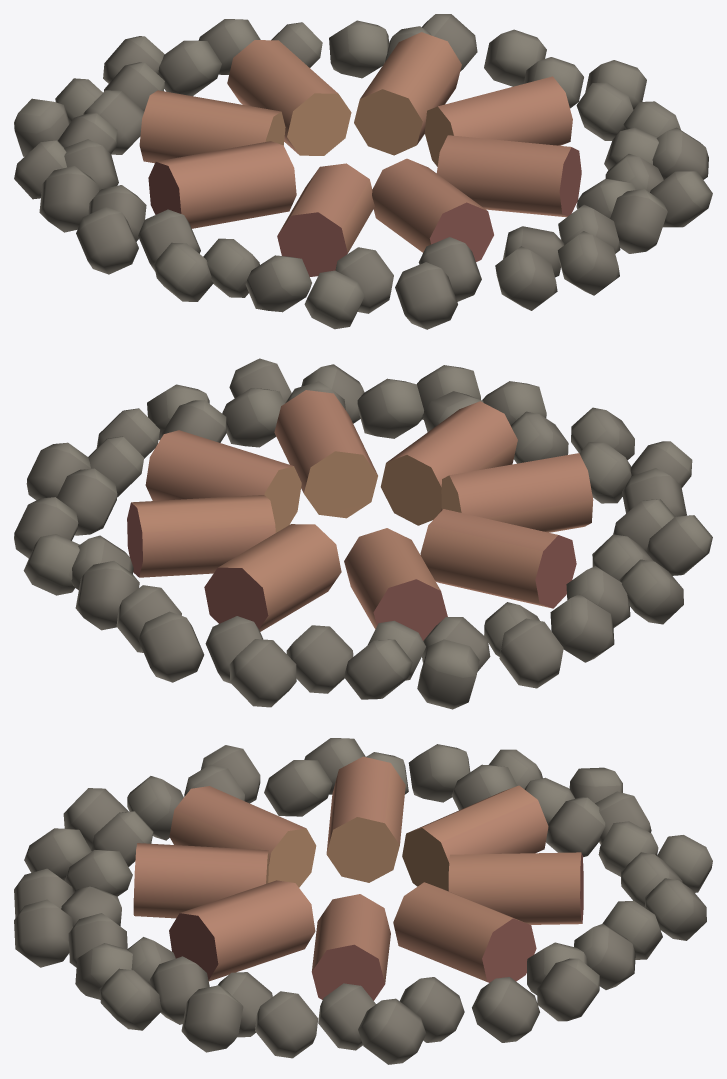
The model's file is fire_place.glb.
3 renders of one model, top to bottom at view 1: azimuth 30°, elevation 25°; view 2: azimuth 150°, elevation 25°; view 3: azimuth 270°, elevation 25°, orthographic. The views are drawn at different scales.
Visible parts, largest first — view 1: Fire_Place.001; view 2: Fire_Place.001; view 3: Fire_Place.001.
Part boxes in pixels (box(x1,y1,x2,y2)): Fire_Place.001: box(14, 14, 712, 329); Fire_Place.001: box(14, 358, 712, 709); Fire_Place.001: box(14, 738, 712, 1064).
Size of the model in its own units: 0.6807 by 0.0839 by 0.6924.
